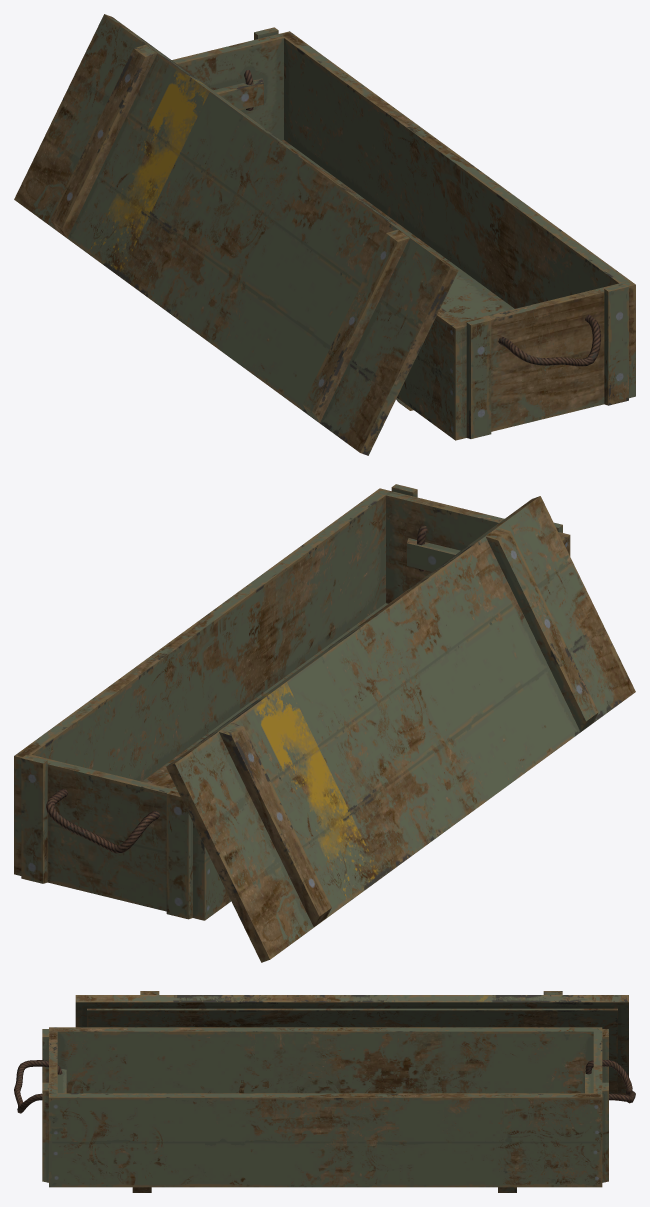
The model's file is weapon_crate.glb.
3 renders of one model, top to bottom at view 1: azimuth 30°, elevation 25°; view 2: azimuth 150°, elevation 25°; view 3: azimuth 270°, elevation 25°, orthographic. The views are drawn at different scales.
Parts seen in each view (by area): view 1: WeaponCrate; view 2: WeaponCrate; view 3: WeaponCrate.
Boxes of the visible parts, <box> form: WeaponCrate: <box>14,14,635,455</box>; WeaponCrate: <box>14,484,635,962</box>; WeaponCrate: <box>14,991,635,1192</box>.
Bounding box in the file's own units: 0.3813 × 0.2325 × 0.9726.
1 material, 1 textured.
